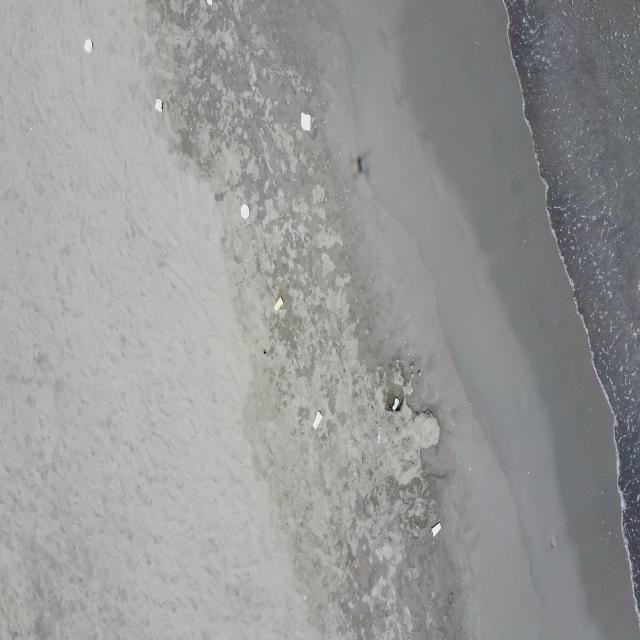take-away-containers: (301, 111, 311, 132), (240, 204, 250, 219), (84, 38, 93, 53), (155, 98, 163, 112)
takeaway-cup: (430, 521, 442, 539), (312, 410, 322, 429), (274, 296, 283, 312), (376, 425, 383, 445), (392, 397, 399, 411)
